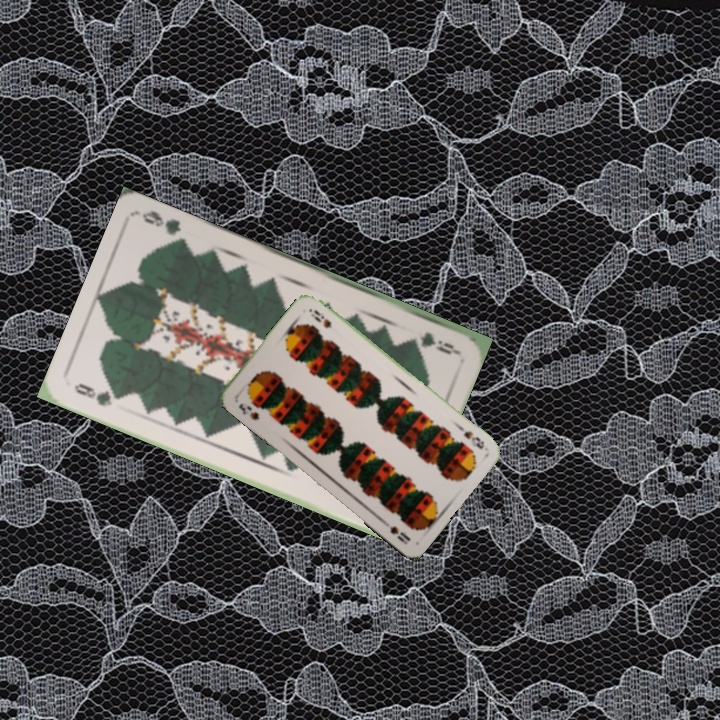G9: (70, 379, 126, 409), (406, 327, 460, 357)
S8: (454, 421, 487, 452), (235, 399, 262, 423)
